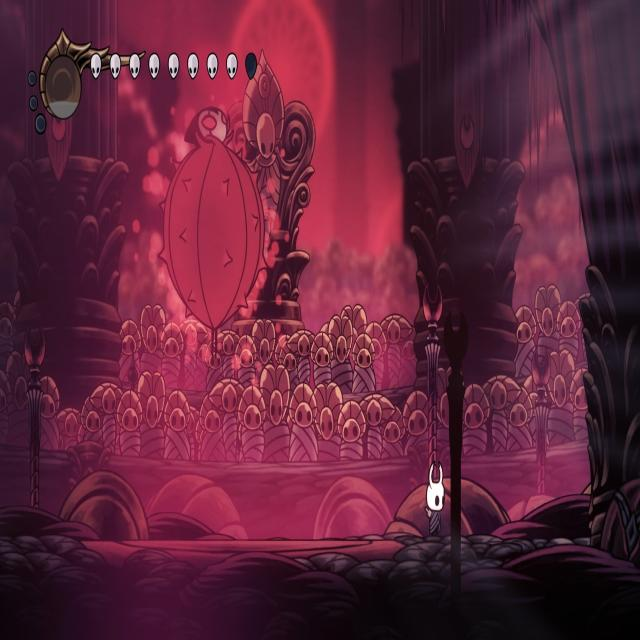Player: (422, 455, 447, 538)
Pufferfish: (157, 105, 273, 362)
